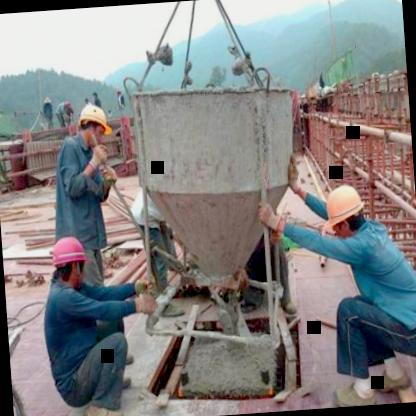helmet: (320, 178, 368, 244), (46, 230, 92, 292), (76, 102, 112, 152)
